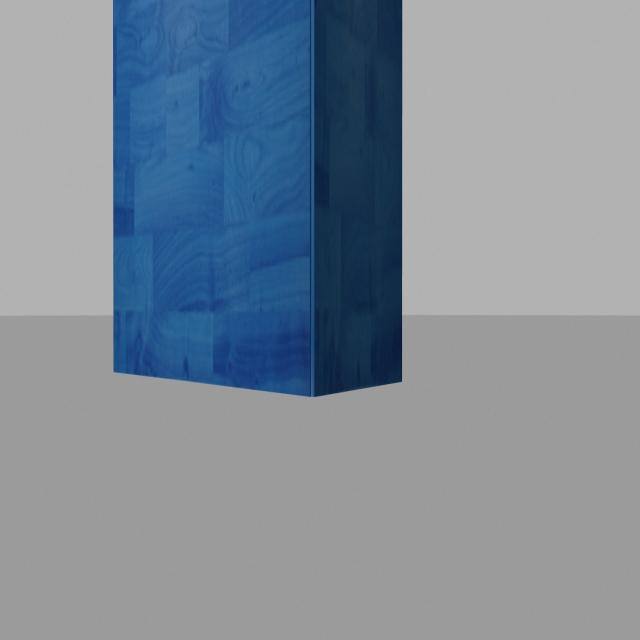shelf: (92, 0, 420, 412)
